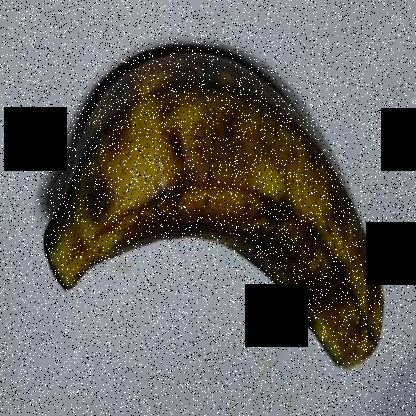overripe: (39, 25, 402, 383)
